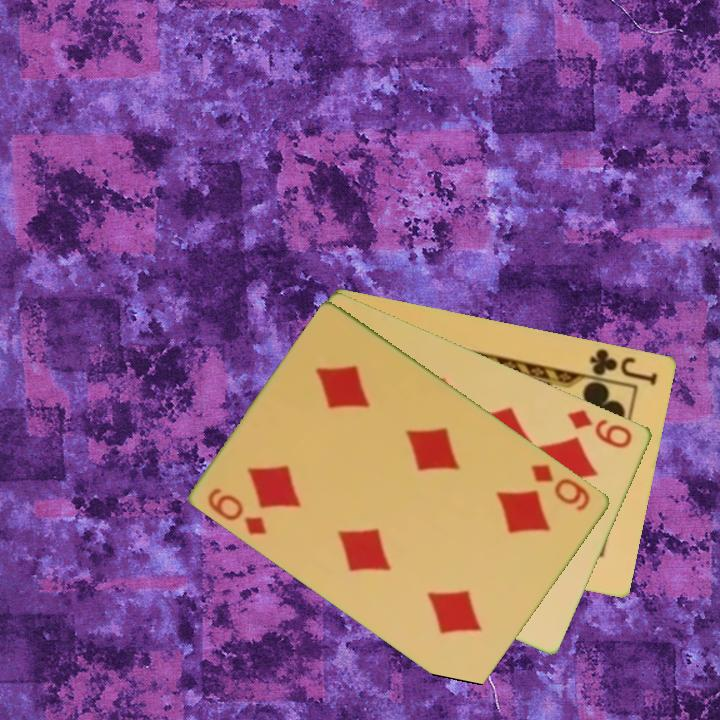6d: (204, 484, 271, 538), (528, 460, 594, 514)
9d: (564, 405, 636, 451)
Jc: (587, 344, 661, 388)
